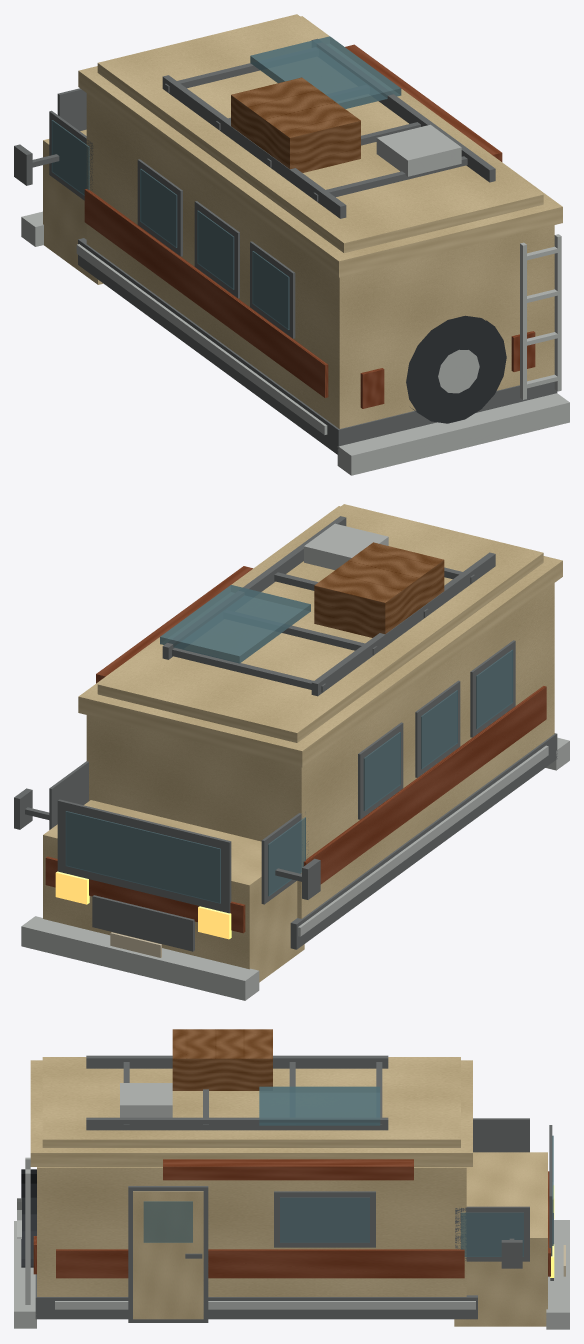
File: rv_exterior.gltf
The picture shows the model from 3 angles, top to bottom: view 1: azimuth 30°, elevation 25°; view 2: azimuth 150°, elevation 25°; view 3: azimuth 270°, elevation 25°; orthographic projection. The views are drawn at different scales.
Visible parts, largest first — view 1: rv_exterior; view 2: rv_exterior; view 3: rv_exterior.
Part boxes in pixels (x1,y1,x2,y2): rv_exterior: (14,14,569,475); rv_exterior: (14,504,569,1000); rv_exterior: (14,1029,569,1329).
Size of the model in its own units: 3.39 by 2.88 by 6.54.
Materials: 9 (3 with a texture image).
